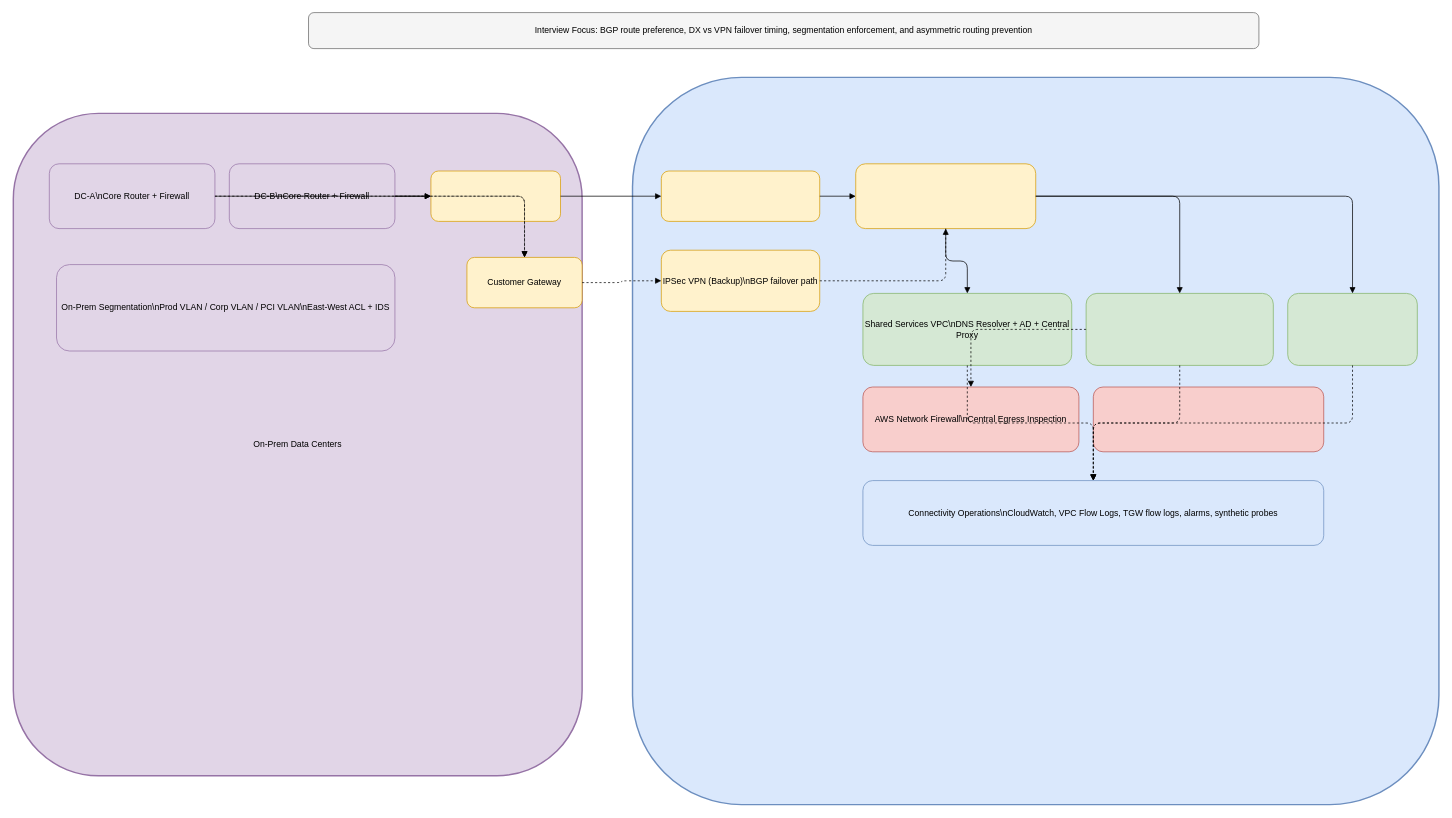
Some shapes in this 1452 by 818 pixel diagram are drawn without their labels. Here are the shapes that lost their labels. From the top down, the centre of each, then its label:
At point (495, 195): "Direct Connect Location".
At point (740, 195): "Direct Connect Gateway".
At point (945, 196): "Transit Gateway\n(Primary Hybrid Hub)".
At point (1179, 329): "App VPC\nEKS/ECS + RDS".
At point (1352, 329): "Data VPC\nAnalytics + Data Lake".
At point (1208, 419): "SG + NACL + Route Domains\nPer-segment policy boundaries".
